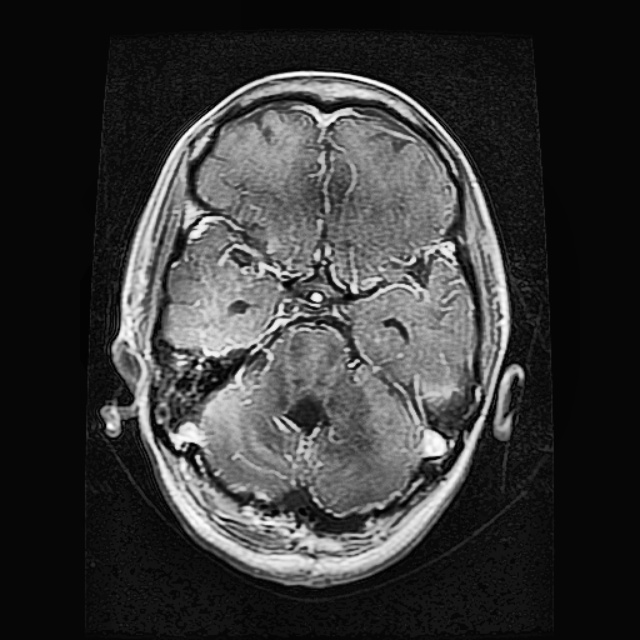Glioma: (282, 392, 327, 433)
